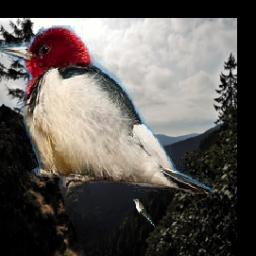Cuckoo: (132, 198, 155, 227)
Woodpecker: (0, 26, 215, 194)
